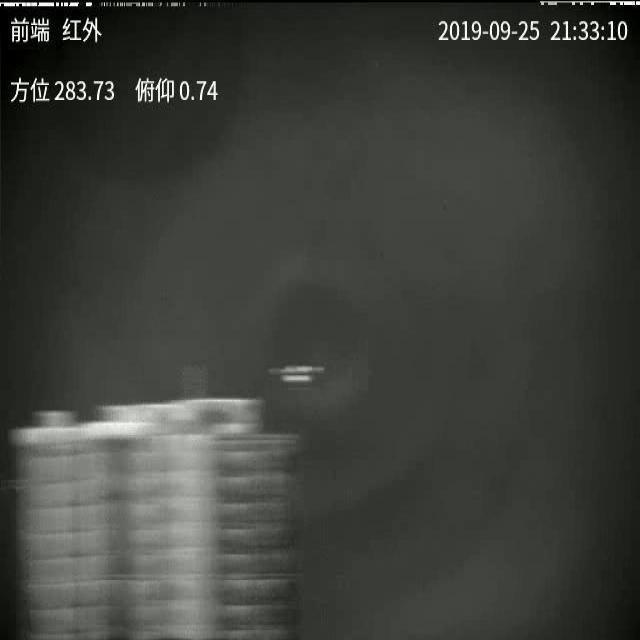drone: (268, 365, 325, 381)
